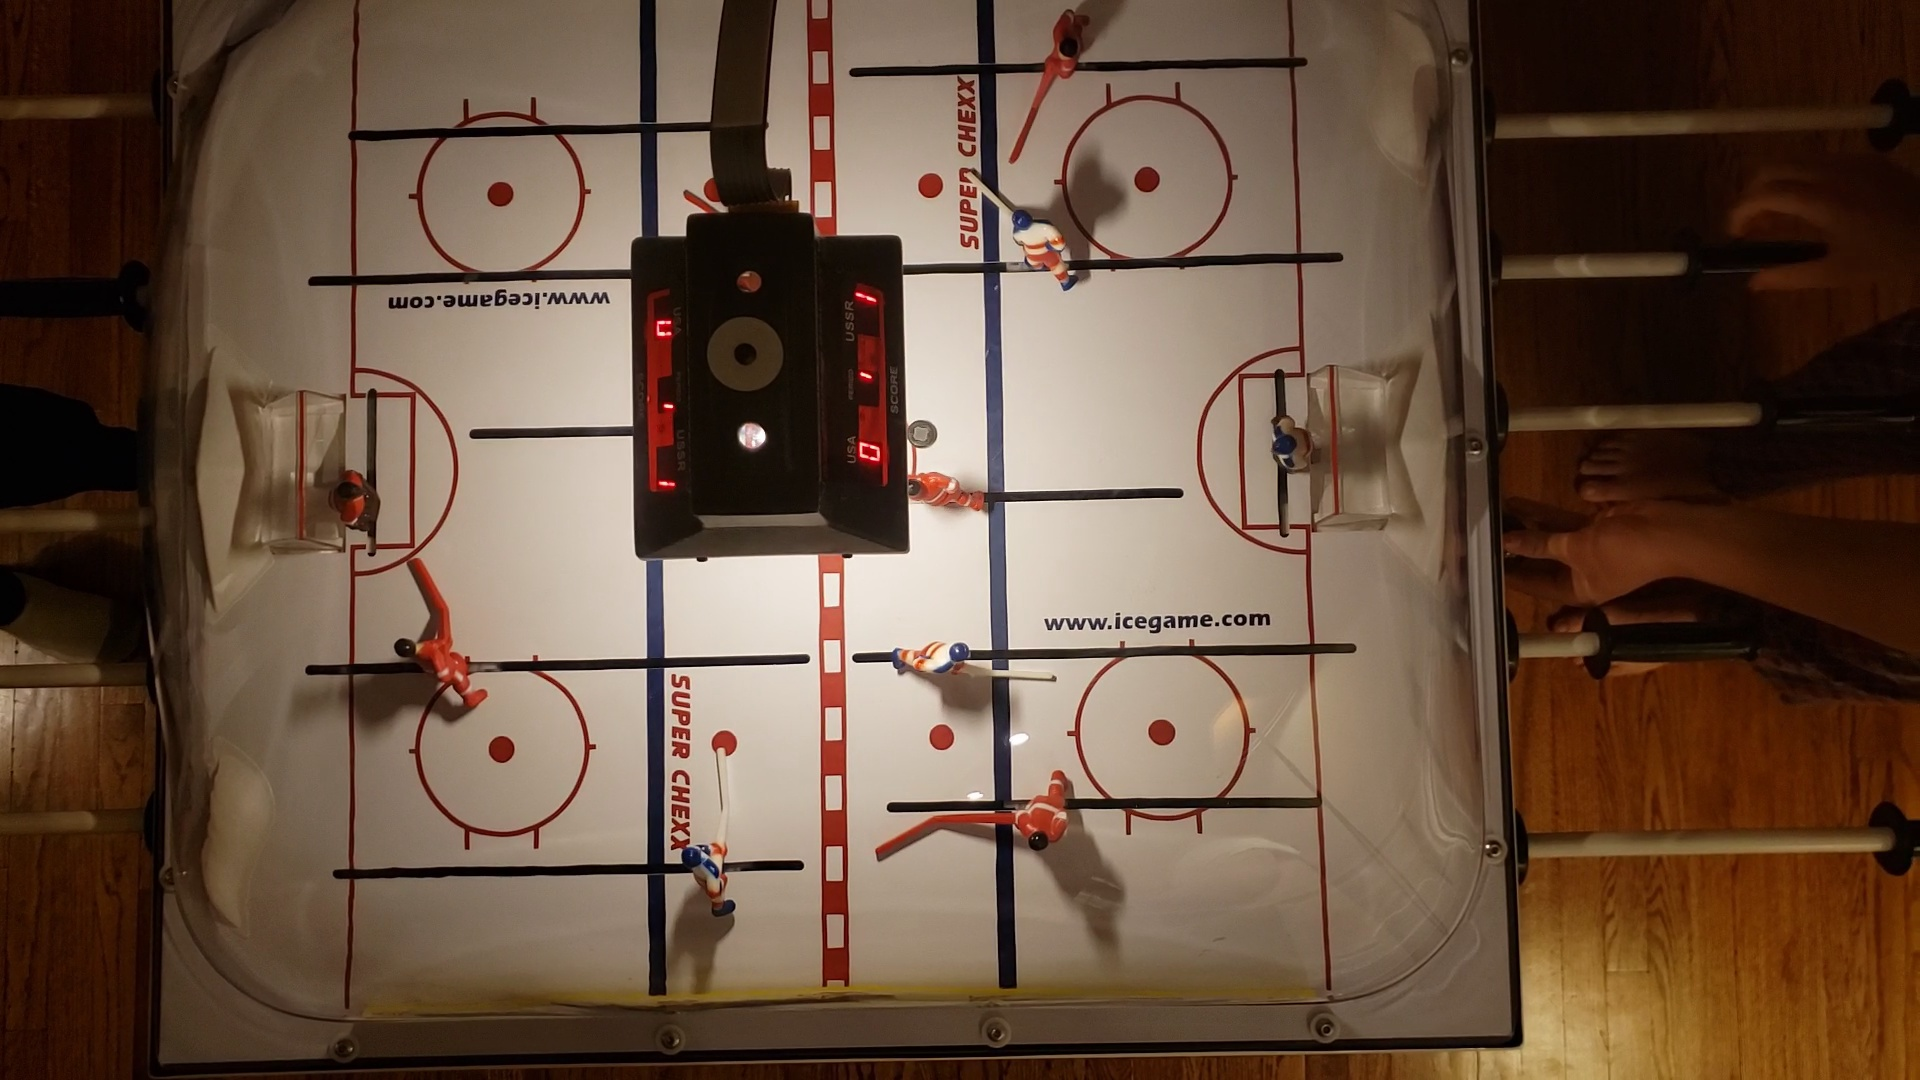puck: (907, 419, 938, 448)
